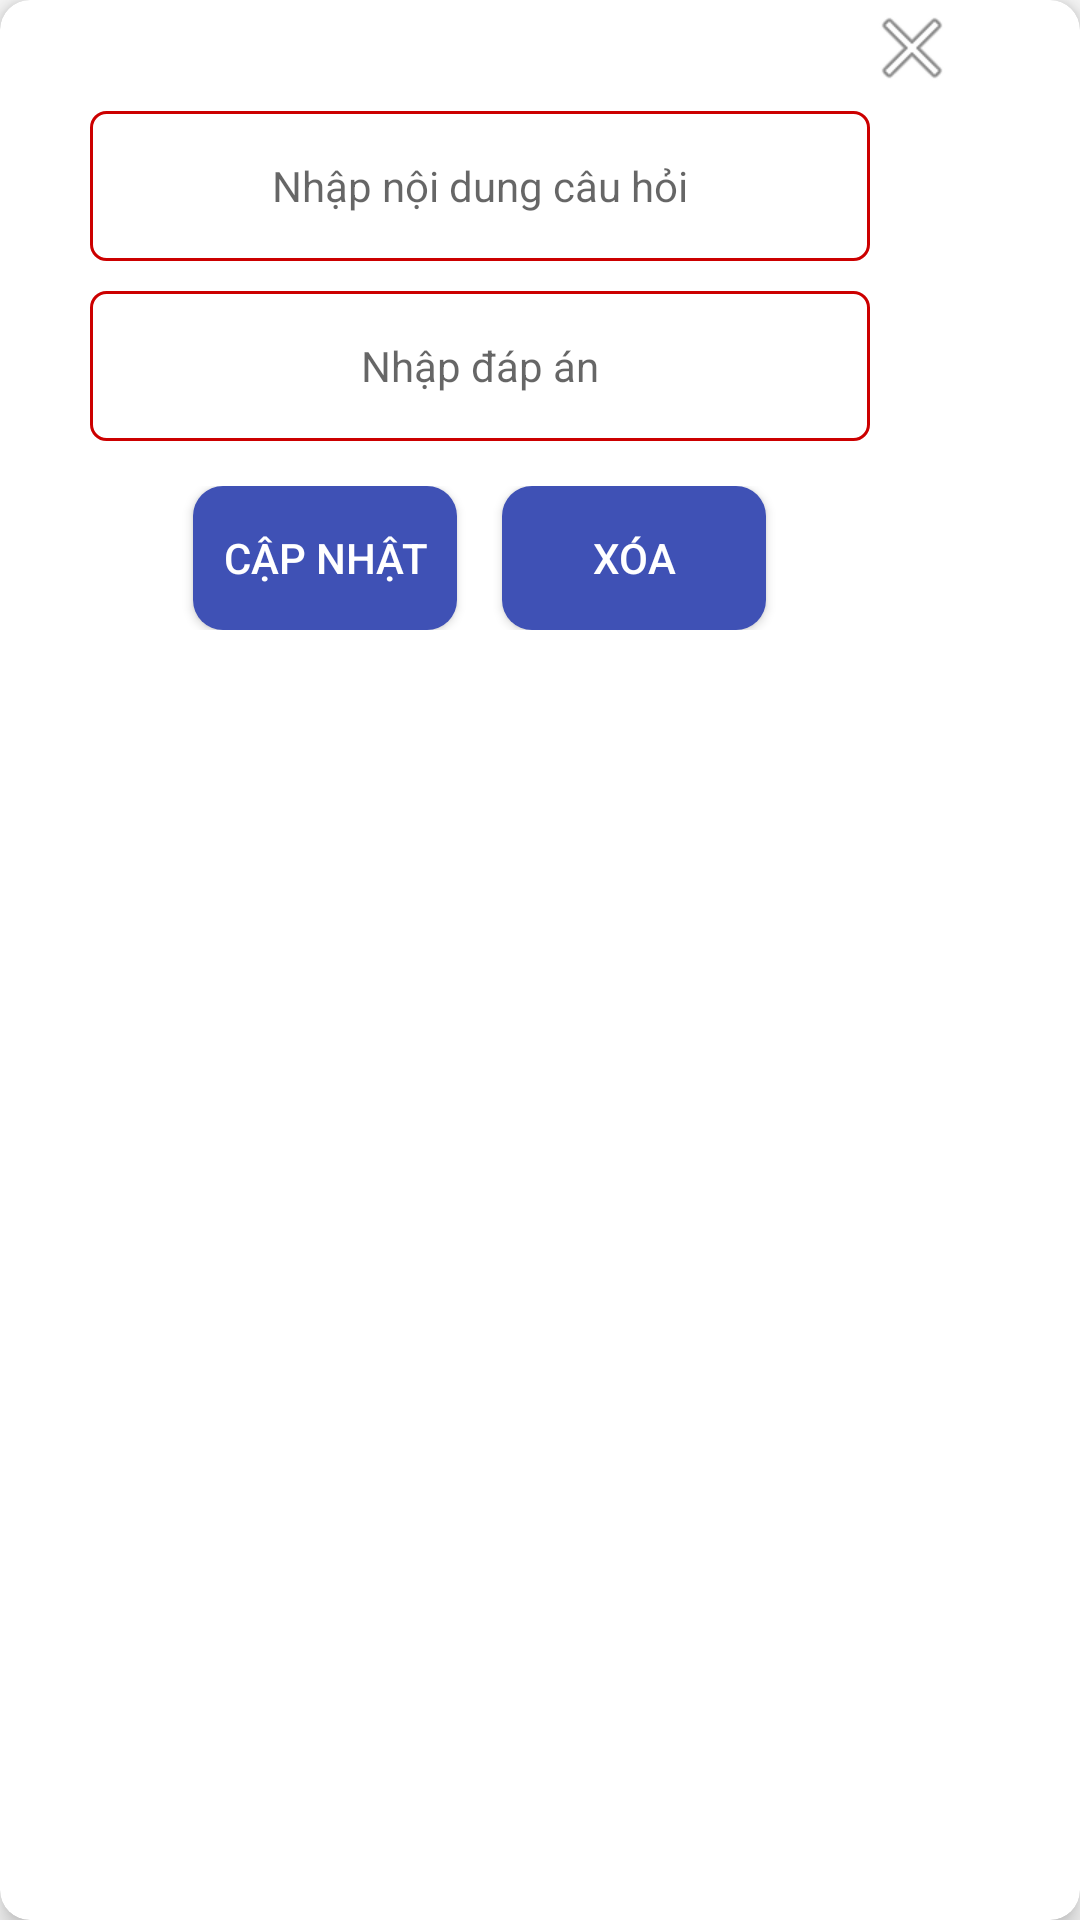

Icons on this 1080*1920 Android screen, each with the point to tap as (x,y):
close clear cancel: (912,48)
